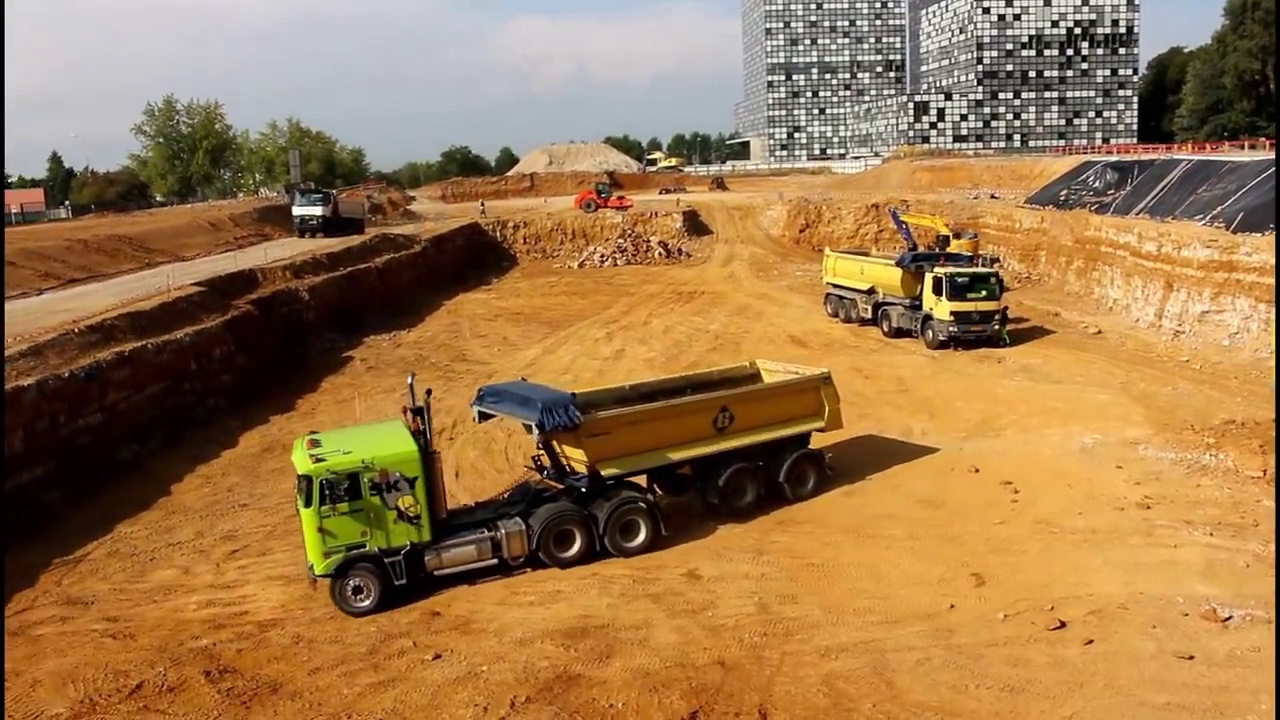compactor: (572, 182, 636, 214)
excavator: (882, 205, 988, 302), (638, 148, 688, 176)
truck: (288, 362, 846, 620), (817, 245, 1012, 354), (291, 185, 369, 240)
worker: (477, 195, 492, 223)
